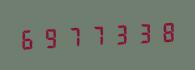eight: (155, 16, 177, 45)
nine: (40, 22, 62, 51)
seven: (63, 21, 85, 50), (86, 20, 108, 49)
six: (17, 24, 39, 53)
three: (109, 19, 131, 48), (132, 18, 154, 46)
